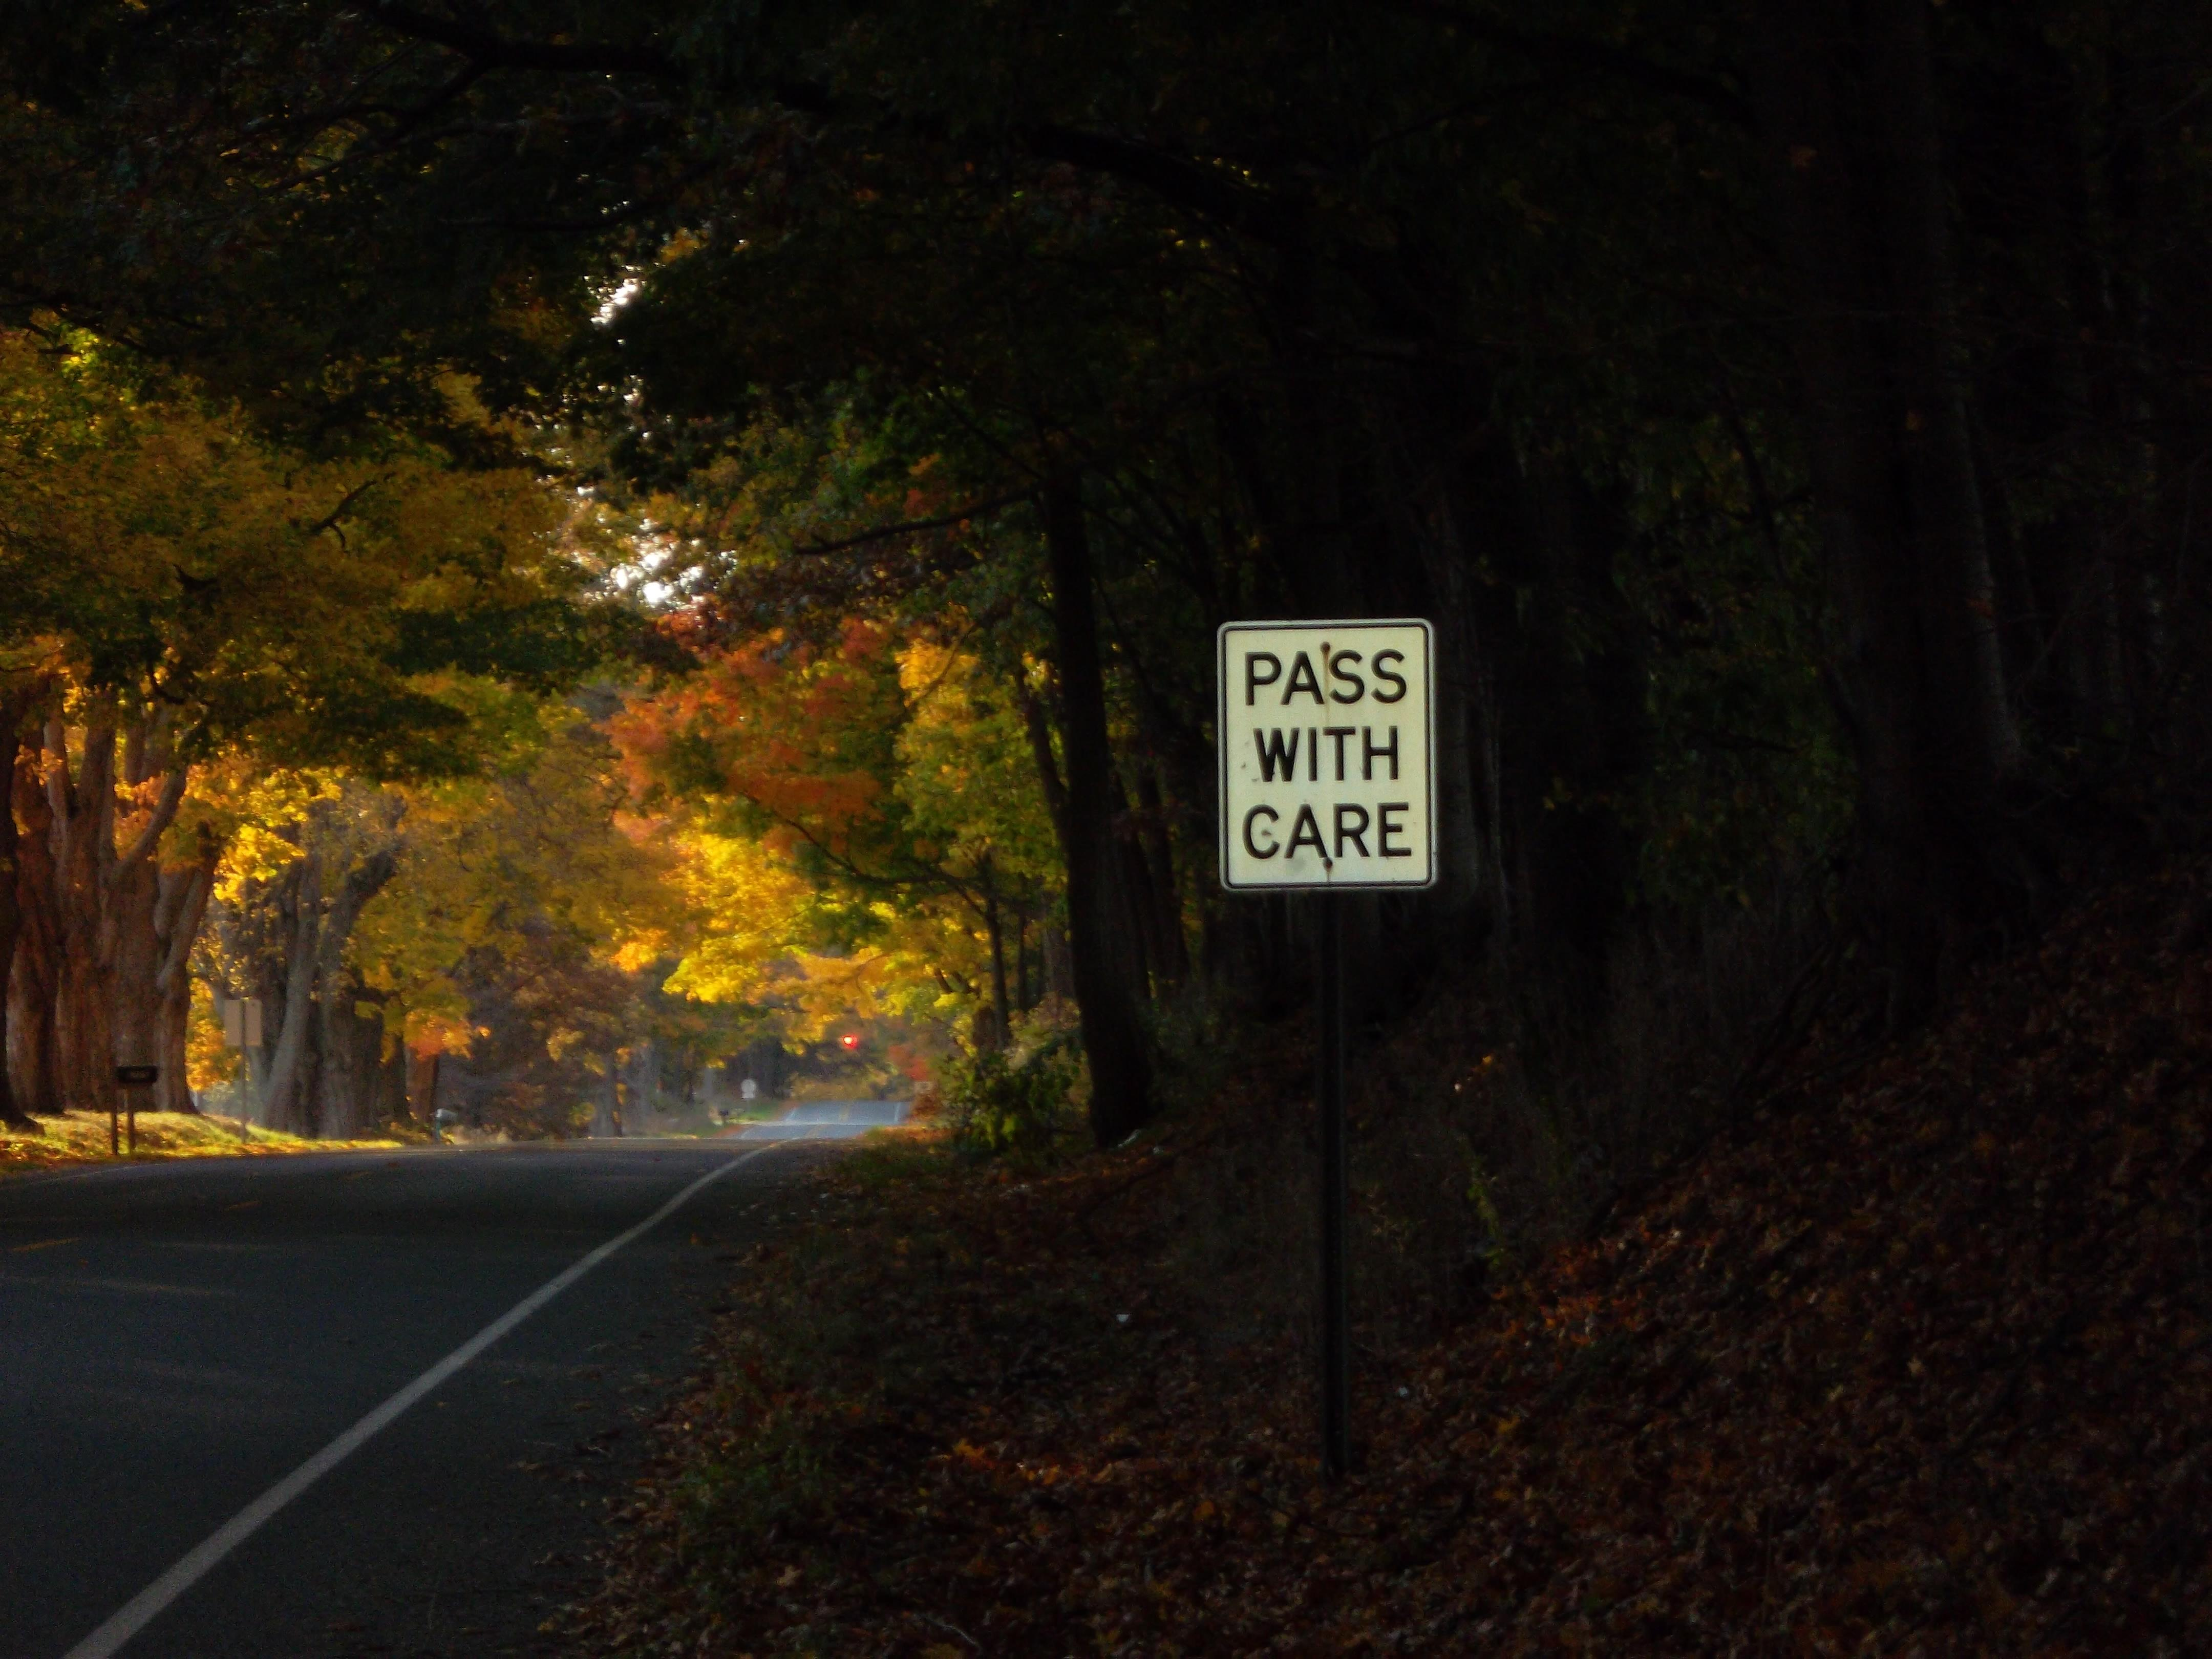regulatory: (1217, 620, 1444, 887)
